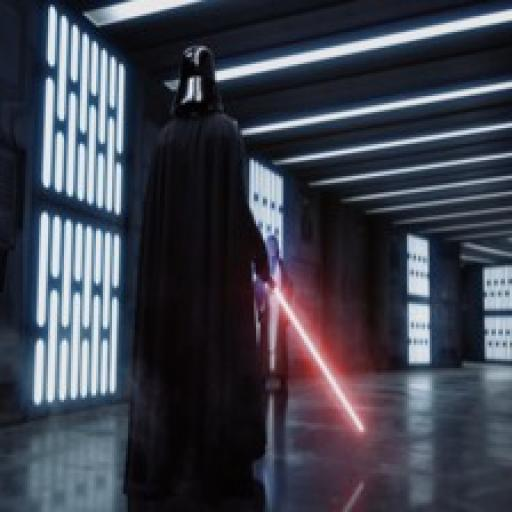sith saber: (251, 252, 368, 433)
